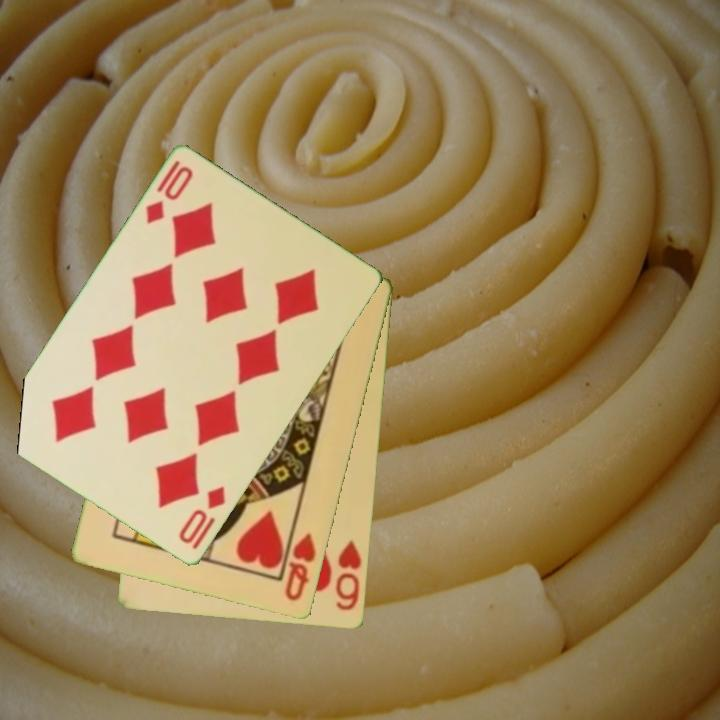10d: (142, 157, 197, 228), (175, 483, 229, 553)
6h: (332, 537, 365, 614)
Qh: (281, 529, 320, 605)
